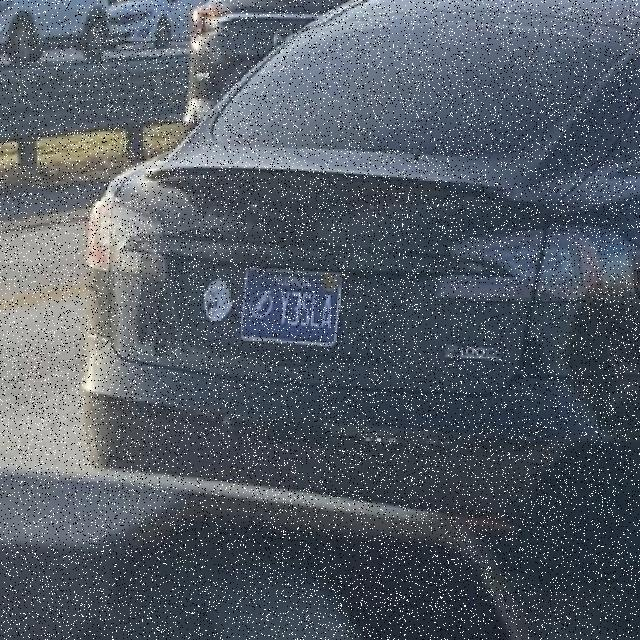licenseplate: (238, 265, 345, 350)
